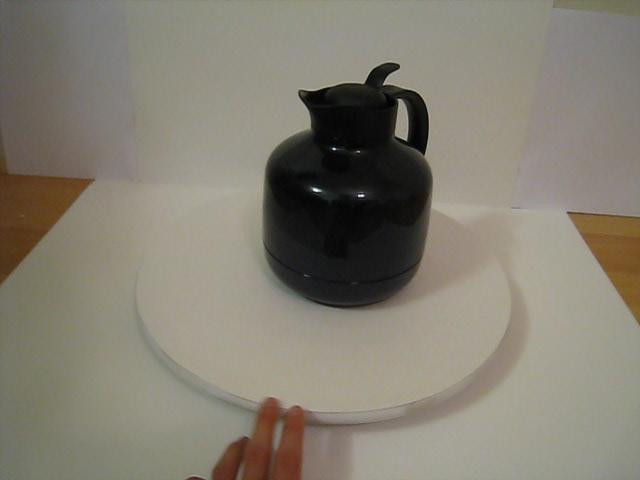pitcher: (240, 64, 452, 310)
